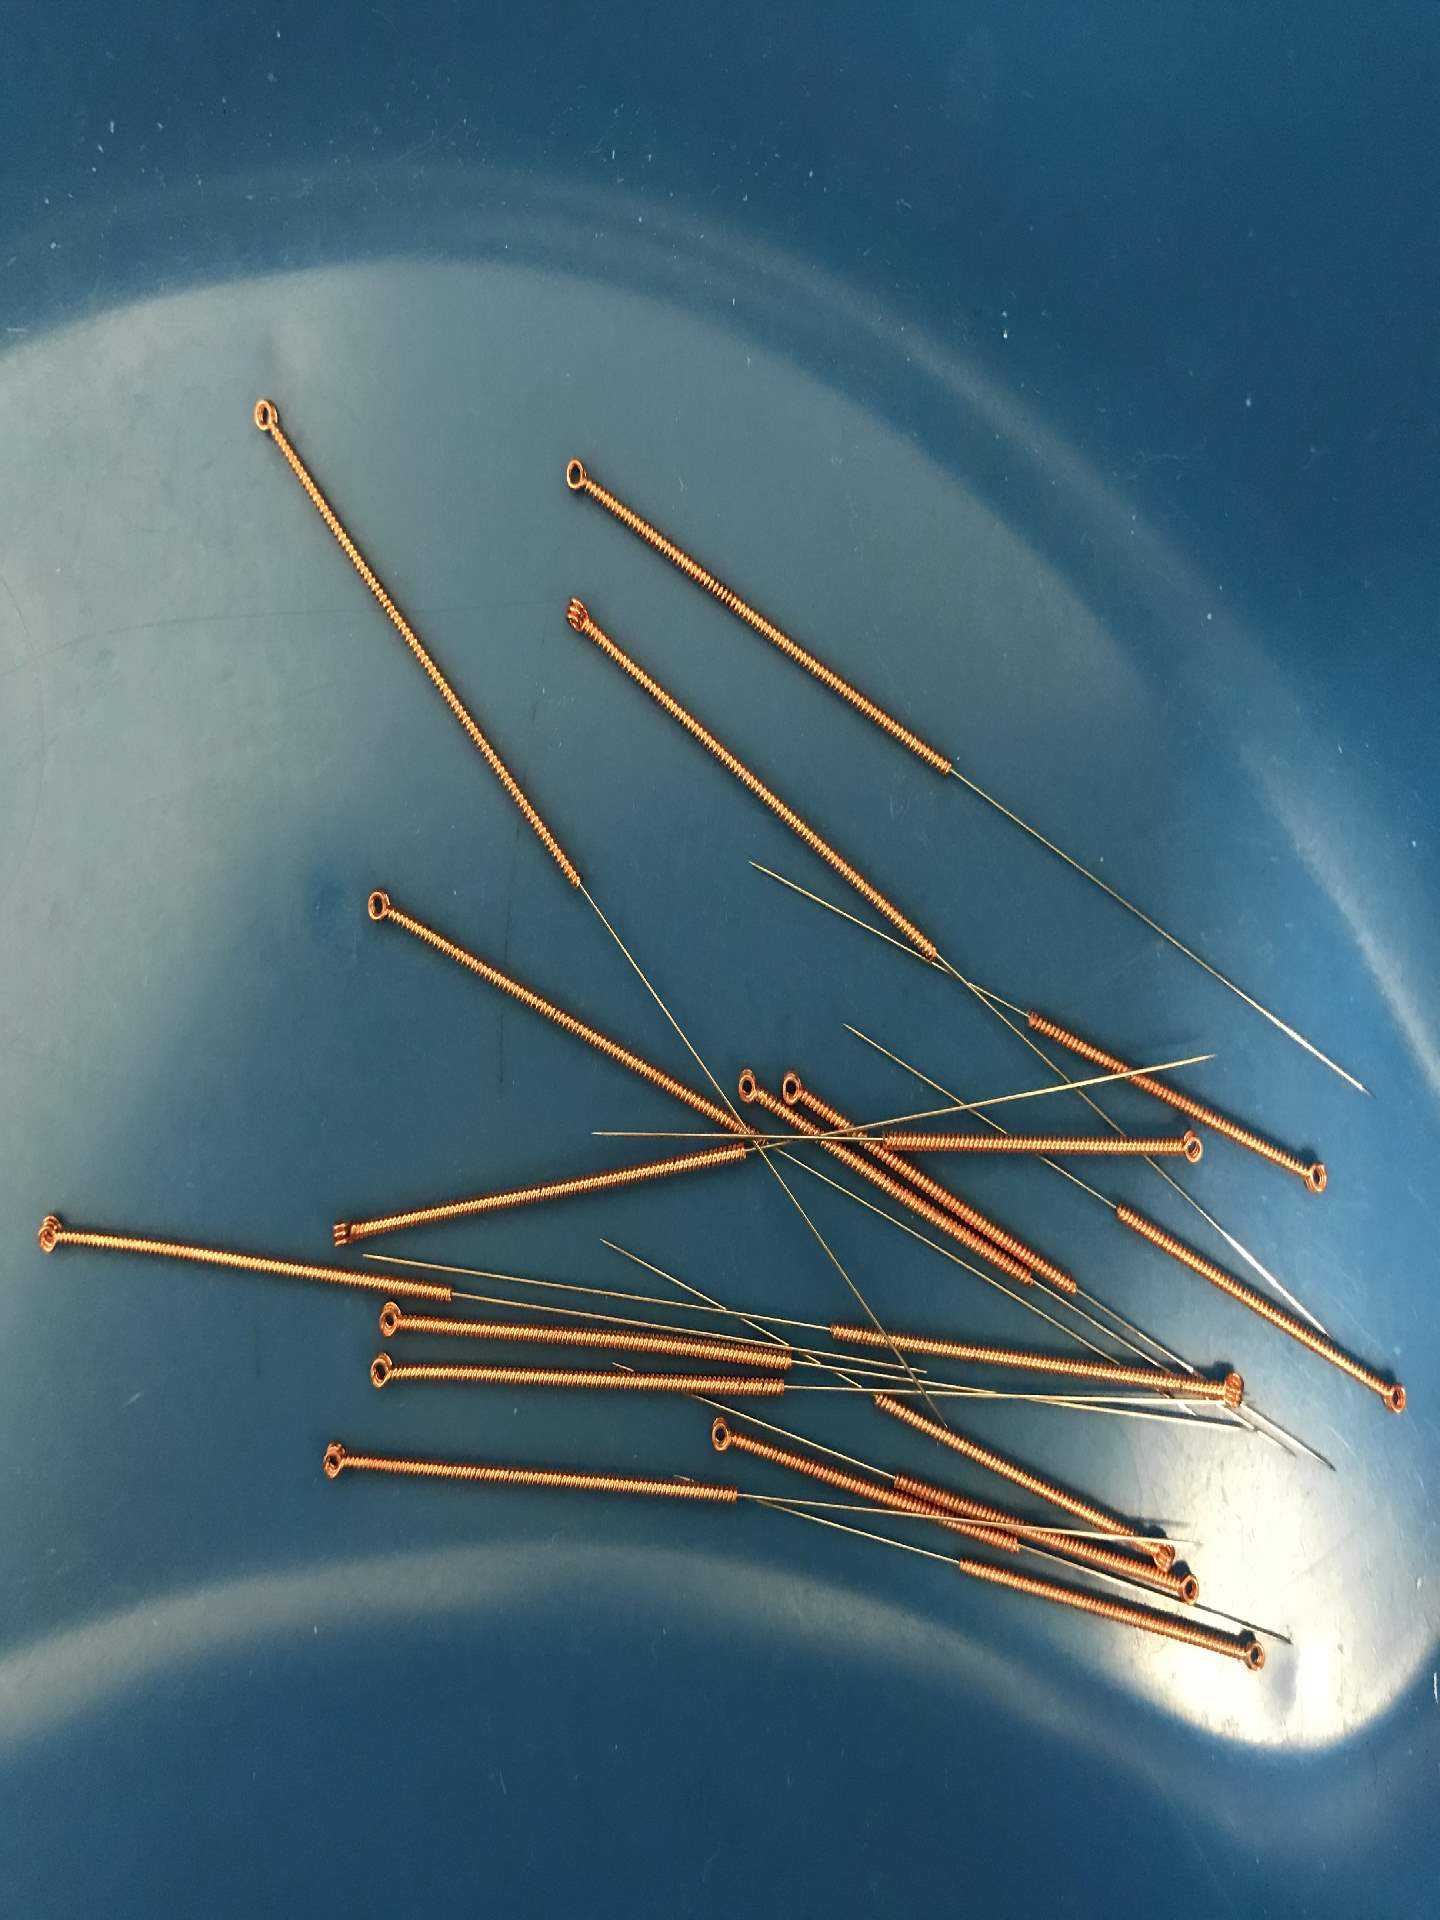needle: (310, 1433, 358, 1489), (1203, 1361, 1252, 1414), (1367, 1367, 1414, 1423), (552, 447, 599, 502), (26, 1206, 73, 1259), (699, 1411, 746, 1463), (365, 1296, 413, 1346), (357, 1349, 405, 1398), (1290, 1150, 1336, 1203), (321, 1206, 368, 1256), (555, 588, 601, 639), (244, 390, 287, 443), (1224, 1628, 1271, 1677), (354, 881, 399, 931), (1166, 1122, 1209, 1172), (729, 1061, 768, 1113), (1137, 1528, 1177, 1578), (776, 1064, 815, 1113), (1162, 1569, 1206, 1612)
